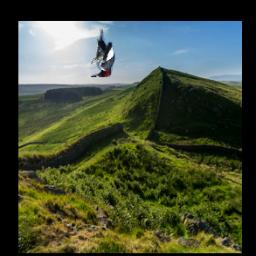Woodpecker: (91, 30, 115, 78)
